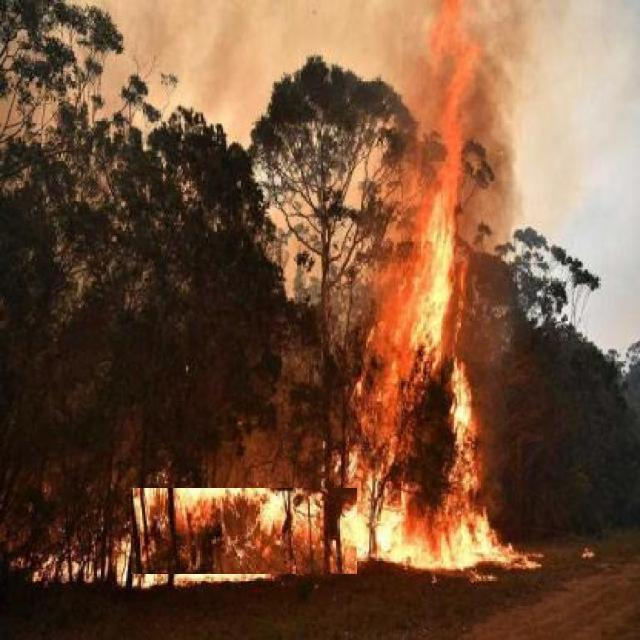Fire: (368, 172, 464, 358), (344, 499, 524, 569), (449, 363, 477, 445)
